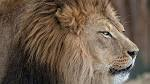lion: (2, 1, 139, 80)
